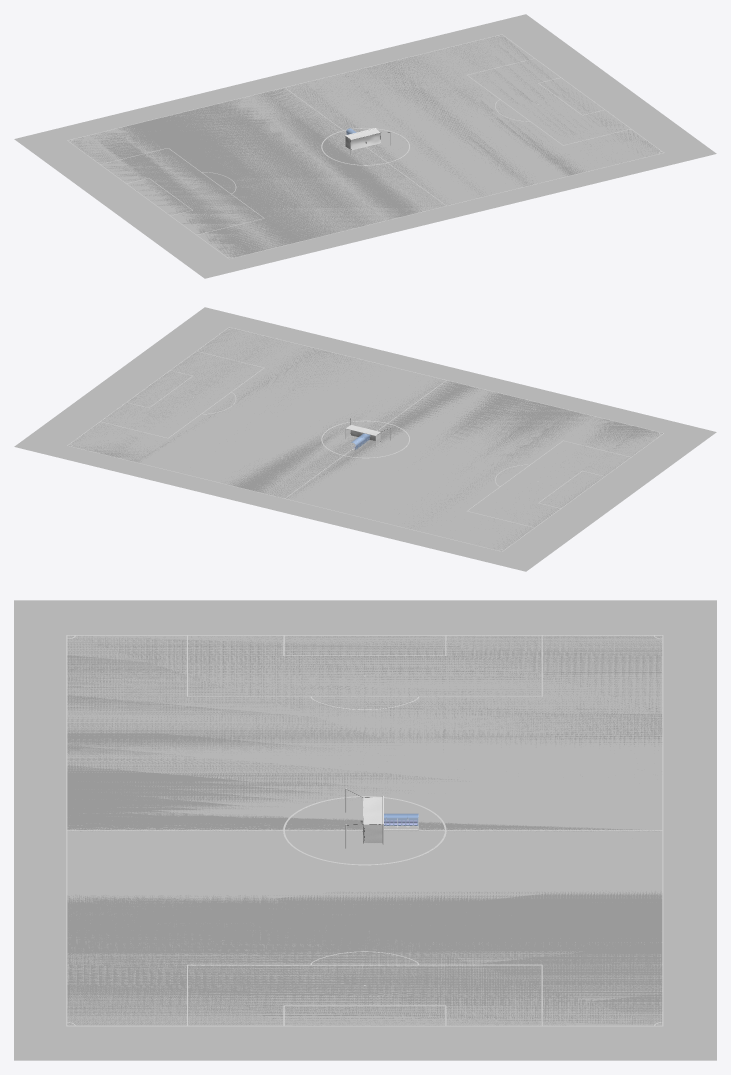
Rendered from FootballPitch.fbx.
3 views of the same model, one above another, from view 1: azimuth 30°, elevation 25°; view 2: azimuth 150°, elevation 25°; view 3: azimuth 270°, elevation 25° (orthographic). The views are drawn at different scales.
Visible parts, largest first — view 1: FootballPitch5_3, FootballPitch5_3Check, Goal; view 2: FootballPitch5_3, FootballPitch5_3Check, Goal; view 3: FootballPitch5_3, FootballPitch5_3Check, Goal.
Boxes of the visible parts, box(x1,y1,x2,y2) form: FootballPitch5_3: box(14, 14, 716, 278); FootballPitch5_3Check: box(70, 35, 661, 258); Goal: box(345, 128, 390, 155); FootballPitch5_3: box(14, 307, 716, 571); FootballPitch5_3Check: box(68, 328, 662, 551); Goal: box(345, 417, 390, 446); FootballPitch5_3: box(14, 600, 716, 1060); FootballPitch5_3Check: box(67, 636, 662, 1025); Goal: box(345, 788, 383, 848).
Size of the model in its own units: 12400 by 306 by 8005.
